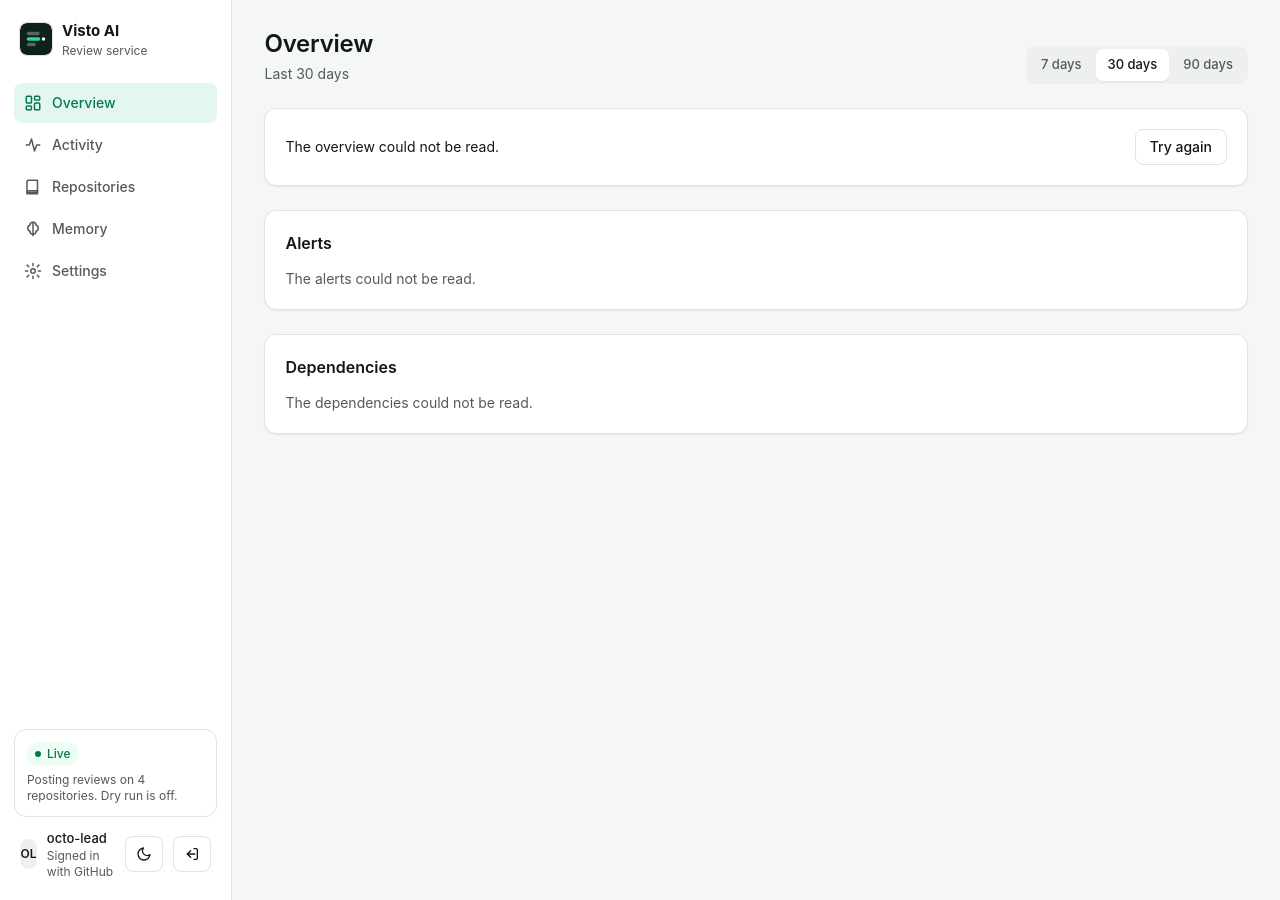
Test: a 403 of the person signed in after another reads who they are again, and their answer applies
Expected: the text "octo-lead" is shown, [47, 828, 116, 848]
Click the button named "Sign out": x=192, y=854 [174, 836, 212, 872]
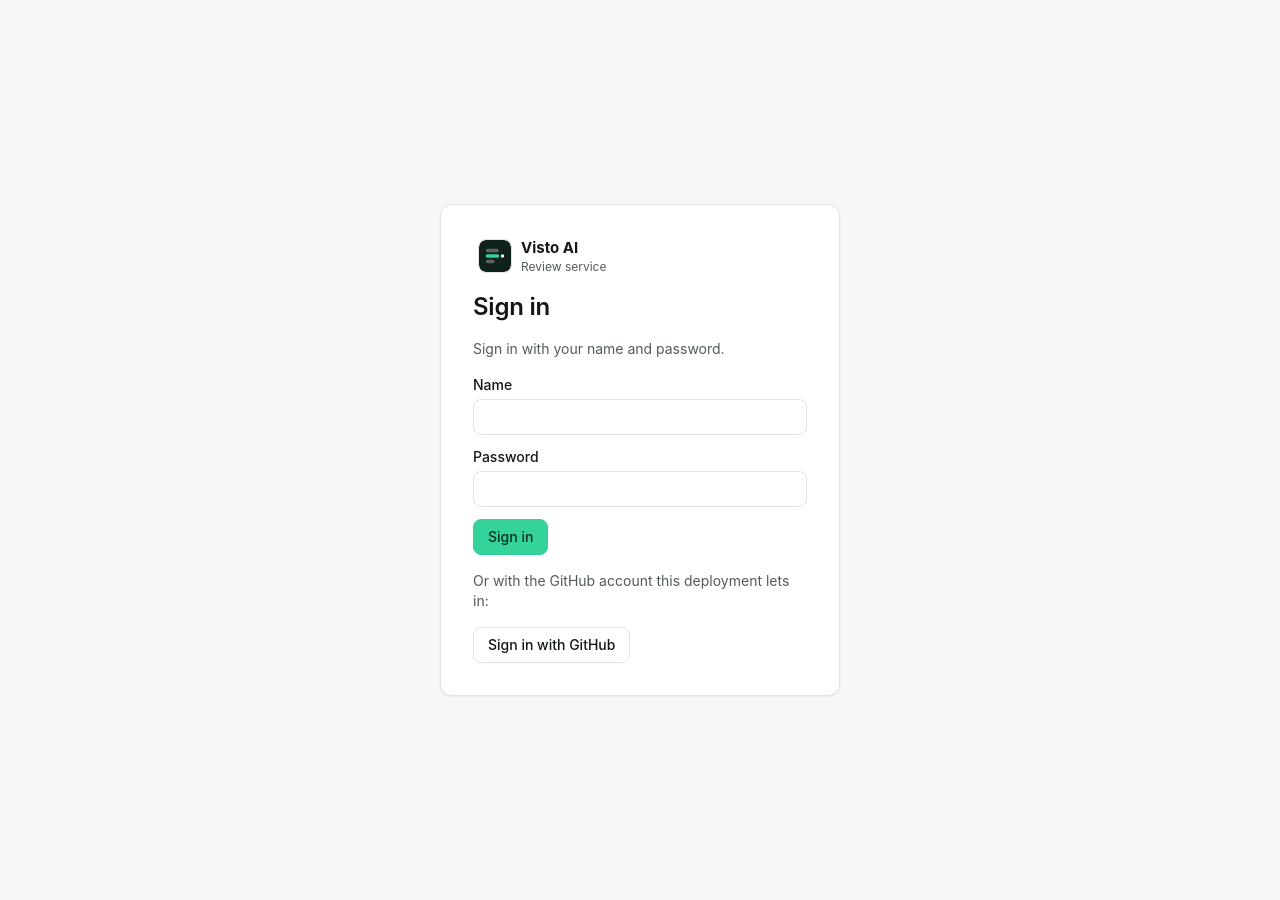
Result: the heading "Sign in" is shown at [473, 292, 550, 321]
In the field labelled "Name": x=640, y=417 [473, 399, 807, 435], type "octo-viewer"
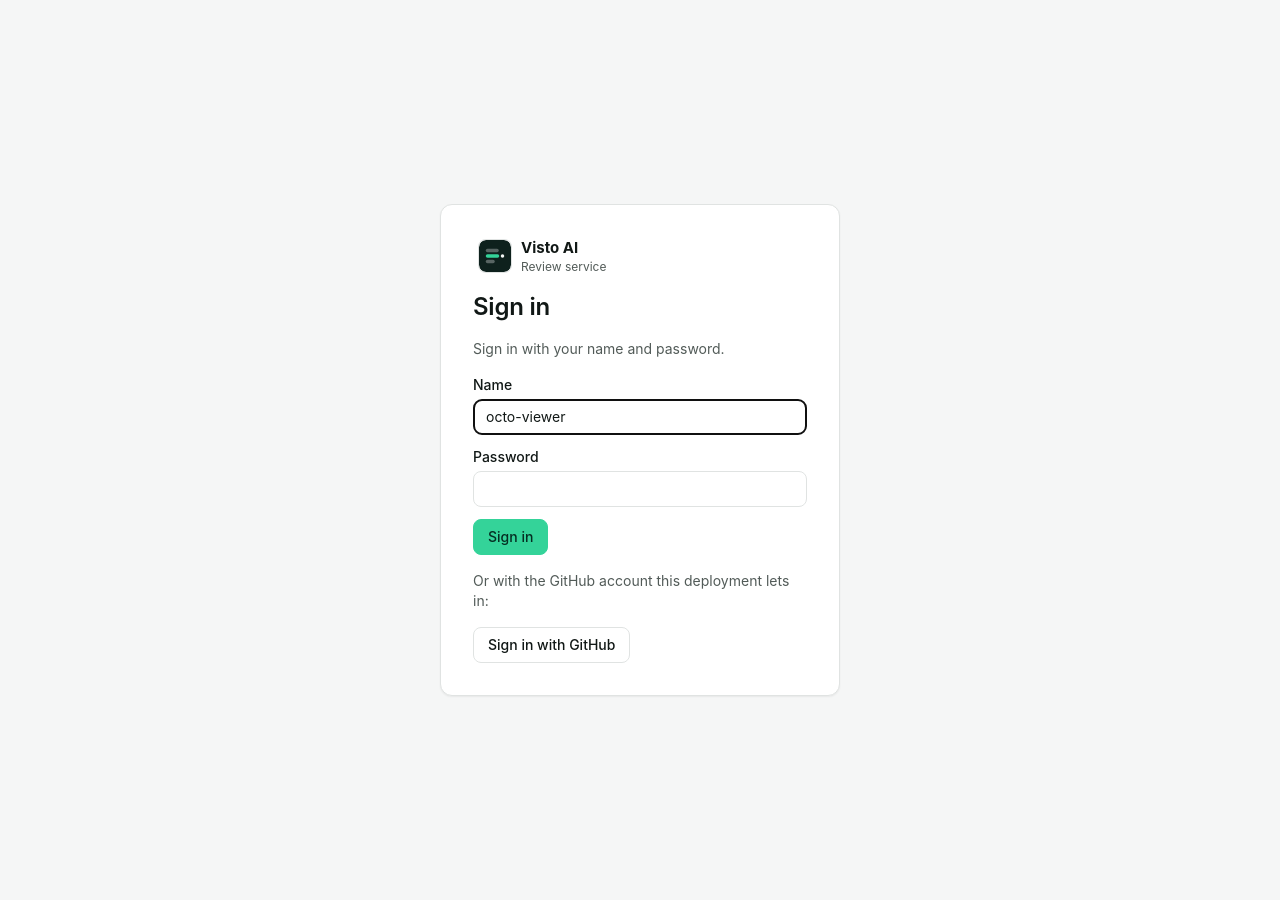
In the password field labelled "Password": x=640, y=489 [473, 471, 807, 507], type "a long password of mine"
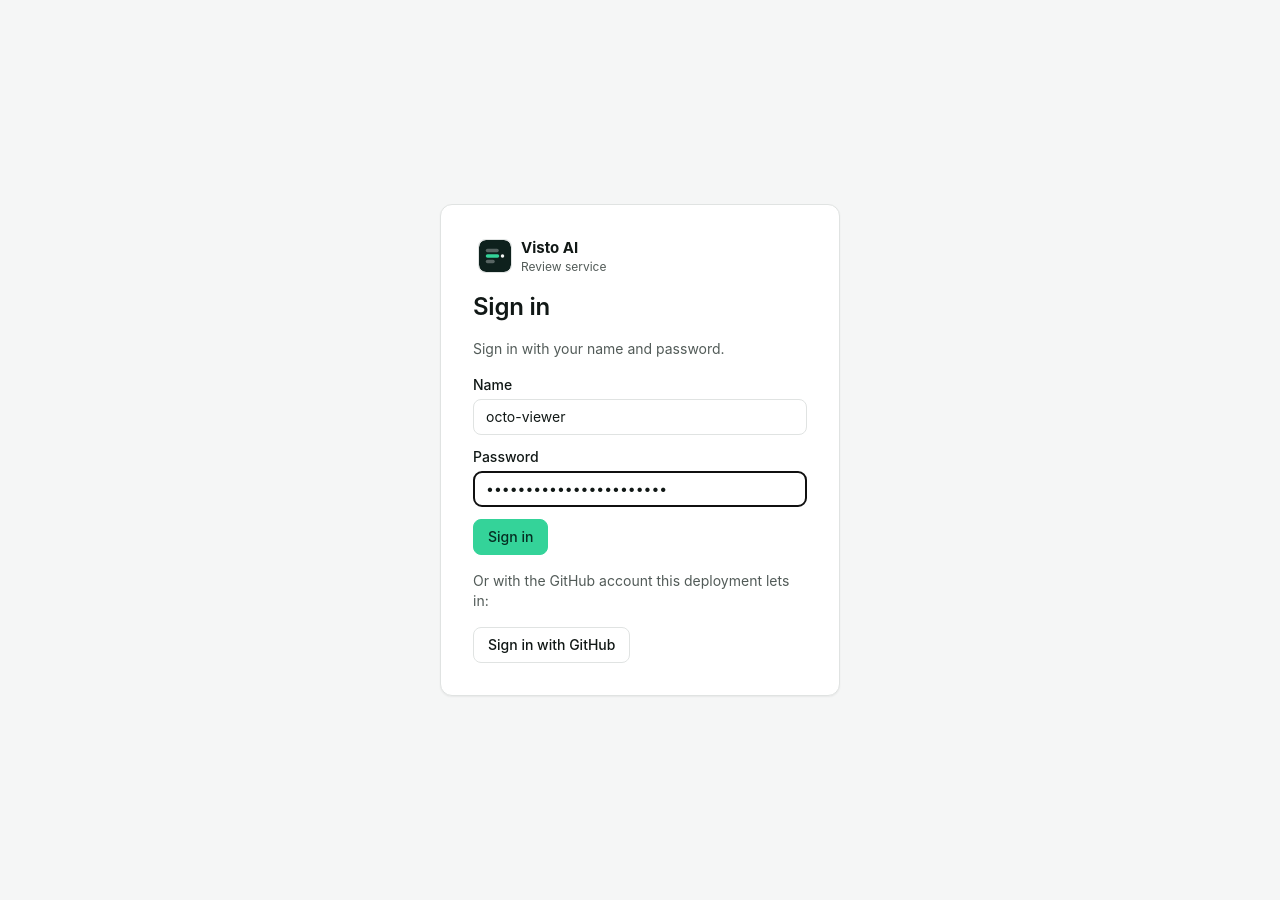
Click the button "Sign in": x=511, y=537 [473, 519, 548, 555]
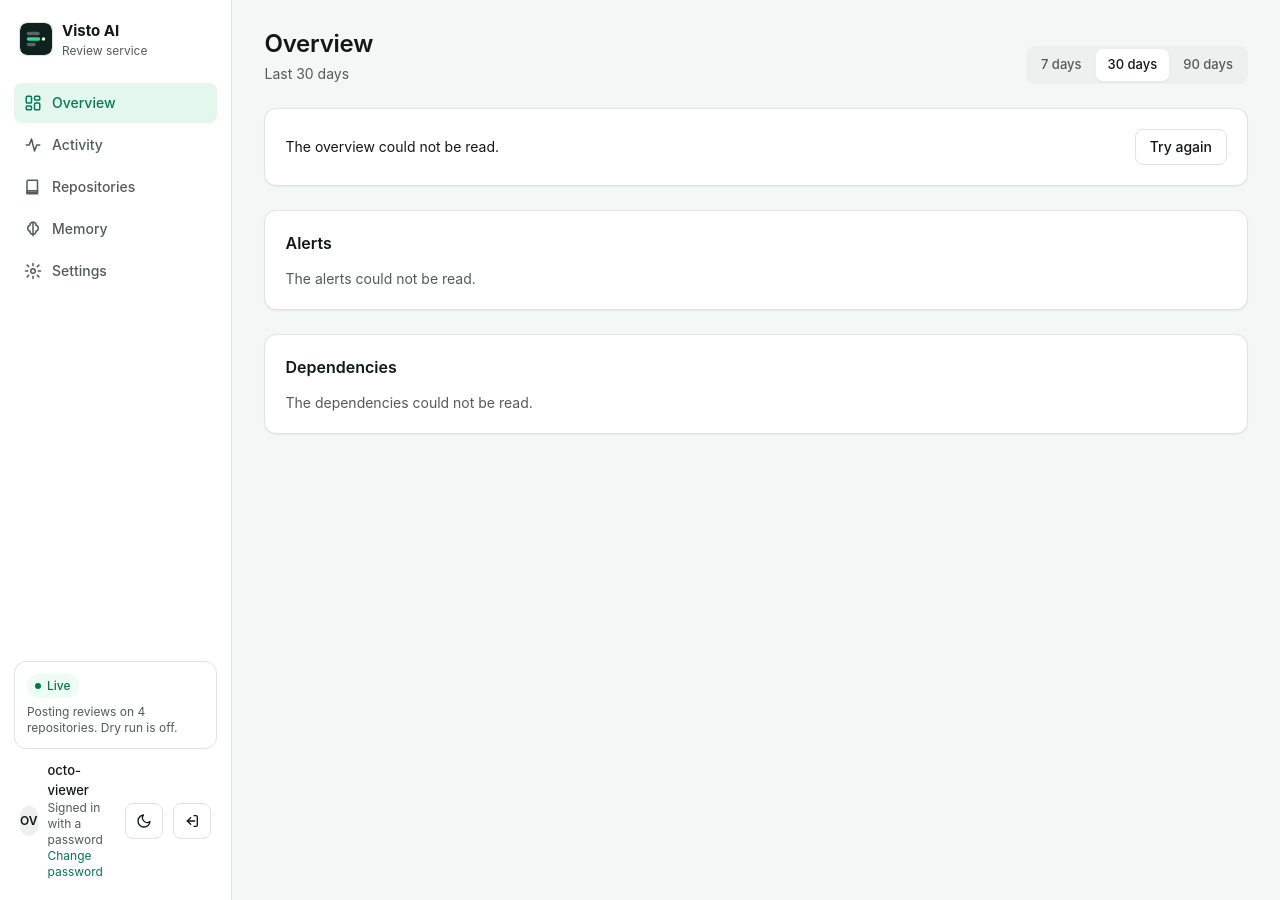
Result: the heading "Overview" is shown at [264, 28, 373, 60]
Result: the text "octo-viewer" is shown at [48, 762, 89, 798]
